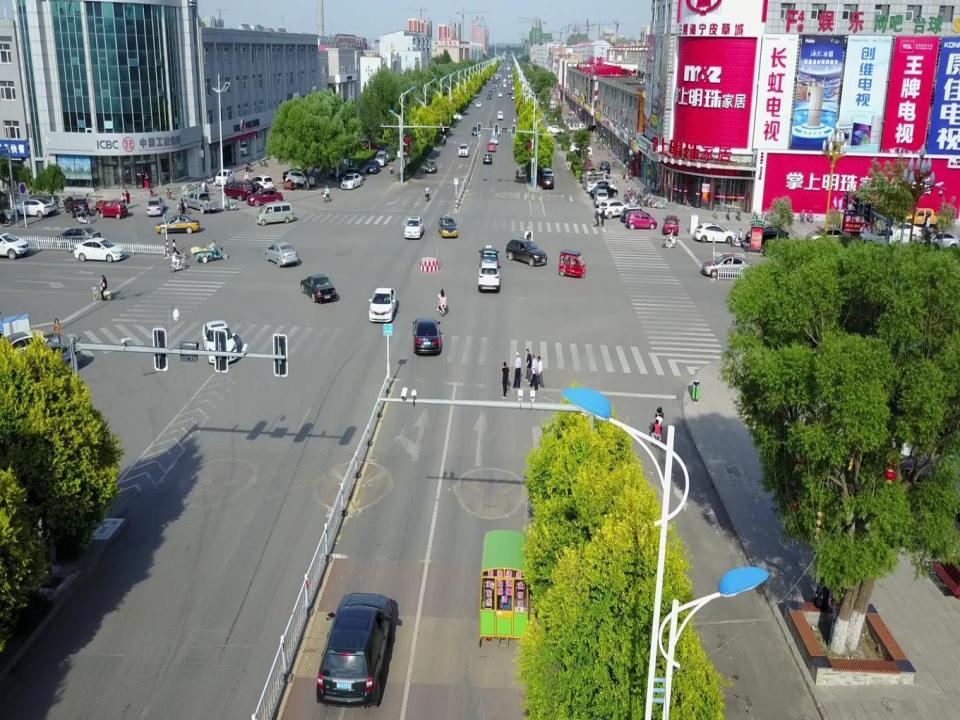car: (316, 593, 392, 708), (881, 458, 956, 503), (22, 342, 82, 380), (0, 328, 52, 369), (201, 320, 237, 364), (73, 237, 125, 263), (701, 254, 752, 278), (505, 238, 547, 266), (300, 274, 336, 304), (411, 318, 440, 354), (52, 226, 101, 247), (368, 287, 396, 322), (154, 213, 200, 234), (913, 231, 960, 251), (858, 226, 900, 247), (694, 223, 735, 244), (805, 227, 852, 245), (0, 232, 30, 260), (14, 197, 56, 217), (265, 242, 298, 267), (745, 225, 789, 243), (477, 260, 501, 292), (596, 200, 630, 220), (246, 188, 283, 206), (886, 222, 921, 241), (625, 210, 657, 230), (99, 200, 128, 220), (64, 195, 89, 217), (285, 170, 316, 187), (437, 214, 458, 238), (620, 207, 651, 223), (282, 168, 314, 182), (248, 174, 274, 191), (404, 217, 424, 239), (479, 245, 499, 267), (237, 180, 264, 196), (587, 179, 616, 193), (590, 184, 618, 198), (340, 173, 363, 189), (340, 168, 366, 182), (147, 196, 165, 216), (663, 216, 680, 236), (215, 170, 235, 187), (580, 168, 602, 182), (356, 138, 380, 150), (594, 188, 609, 207), (382, 146, 398, 162), (366, 159, 379, 174), (540, 162, 552, 178), (546, 124, 565, 134), (425, 159, 437, 173), (542, 170, 555, 182), (542, 176, 554, 189), (458, 143, 469, 157), (483, 153, 493, 165), (486, 142, 496, 152), (450, 112, 462, 120), (490, 134, 498, 144), (472, 126, 479, 136), (493, 126, 500, 136), (475, 102, 481, 107)
truck: (902, 208, 950, 228), (183, 191, 219, 214), (582, 171, 614, 189)
van: (255, 200, 293, 226), (221, 181, 253, 201), (375, 150, 387, 168), (497, 111, 503, 120)
